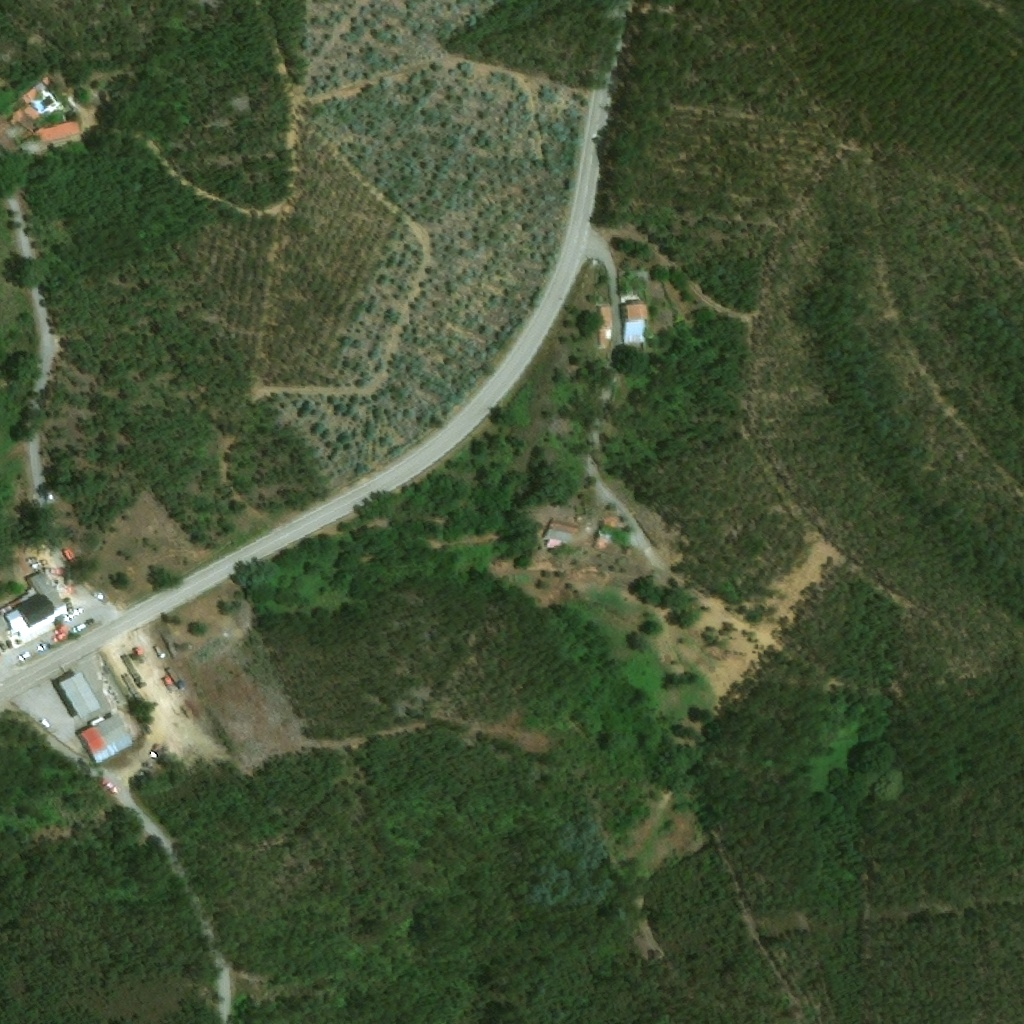0 no-damage: (2, 570, 68, 650), (8, 89, 79, 144), (74, 713, 135, 767), (56, 669, 100, 719), (618, 298, 650, 347), (593, 511, 619, 555), (543, 517, 581, 545), (0, 111, 21, 159), (597, 304, 612, 351), (41, 76, 53, 88), (0, 614, 7, 634)
